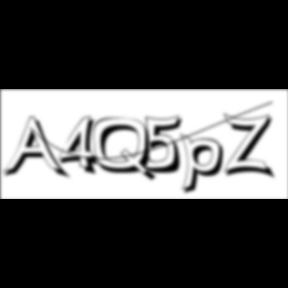4: (58, 115, 104, 179)
5: (142, 114, 188, 176)
A: (2, 116, 72, 182)
Q: (93, 117, 159, 184)
Z: (224, 112, 278, 181)
p: (180, 132, 230, 198)
